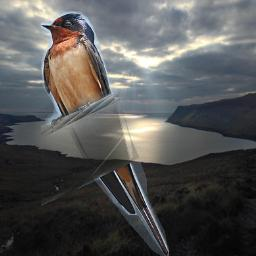Swallow: (41, 11, 169, 256)
